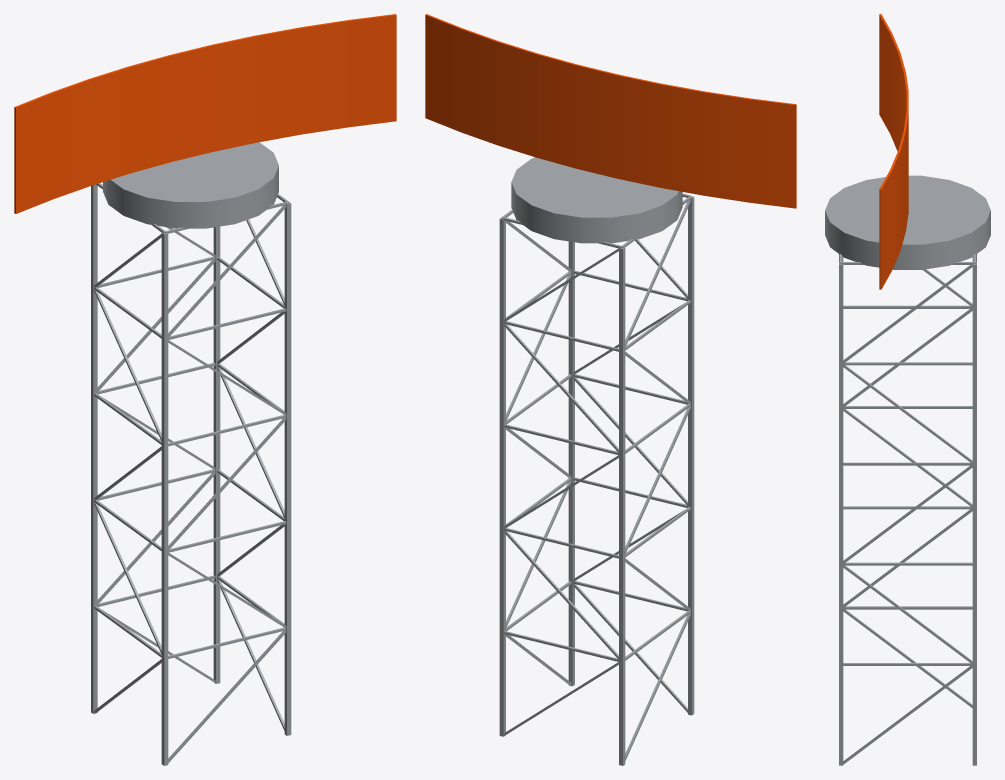
File: airport.airside.radar.glb
3 views of the same model, side by side, from view 1: azimuth 30°, elevation 25°; view 2: azimuth 150°, elevation 25°; view 3: azimuth 270°, elevation 25° (orthographic). The views are drawn at different scales.
Visible parts, largest first — view 1: main__steel_galvanised, main__hivis_orange; view 2: main__hivis_orange, main__steel_galvanised; view 3: main__steel_galvanised, main__hivis_orange.
Boxes of the visible parts, bbox=[...] form: main__steel_galvanised: bbox=[91, 142, 291, 765]; main__hivis_orange: bbox=[14, 14, 396, 213]; main__hivis_orange: bbox=[425, 14, 796, 208]; main__steel_galvanised: bbox=[499, 157, 694, 765]; main__steel_galvanised: bbox=[825, 175, 990, 765]; main__hivis_orange: bbox=[879, 14, 908, 289].
Size of the model in its own units: 9.01 by 15.22 by 3.6.
